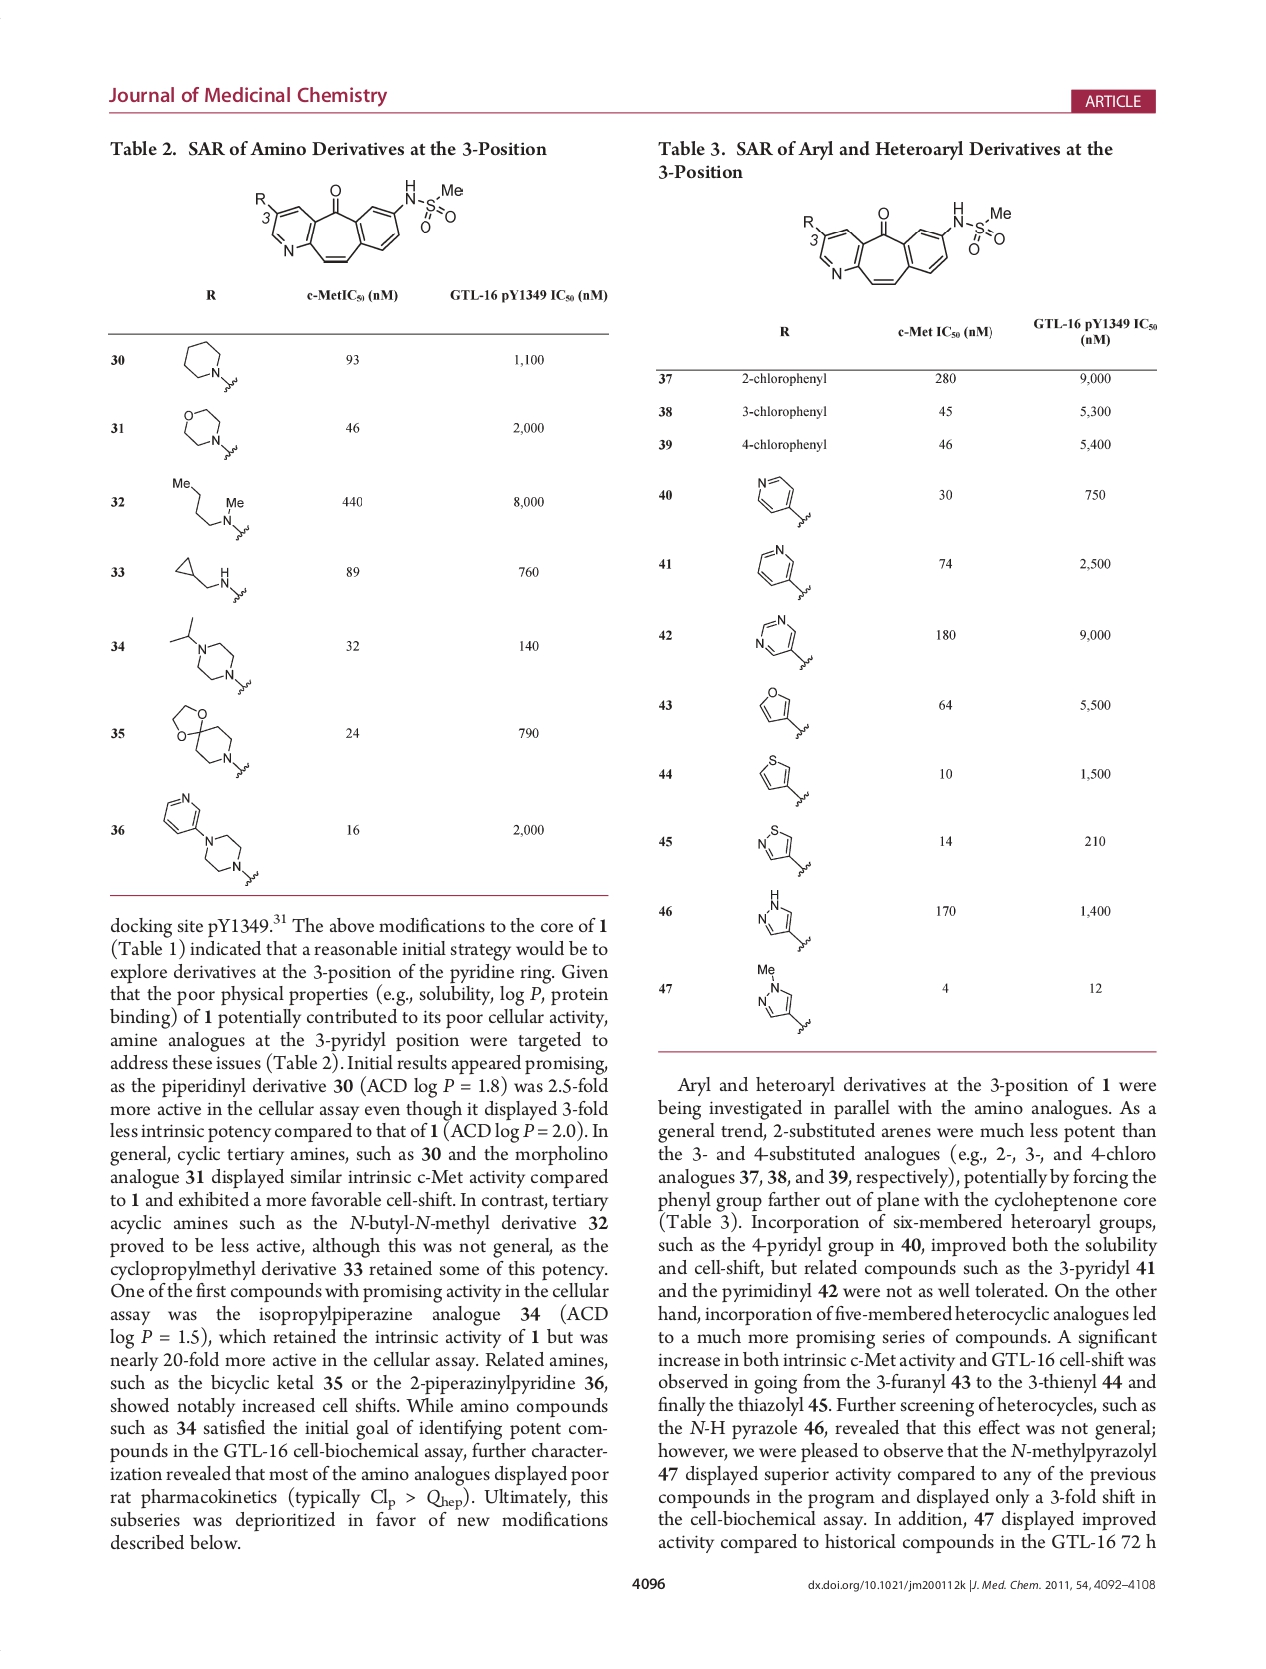exist_molecular: (802, 195, 1016, 291), (251, 176, 465, 270), (160, 787, 262, 886), (165, 617, 257, 698), (169, 701, 251, 781), (168, 476, 254, 541), (753, 960, 814, 1036), (754, 886, 814, 956), (753, 609, 815, 674), (169, 555, 249, 605), (180, 403, 243, 465), (755, 537, 814, 601), (754, 469, 813, 531), (755, 750, 810, 813), (181, 340, 238, 394), (755, 823, 813, 876), (757, 685, 810, 741)
